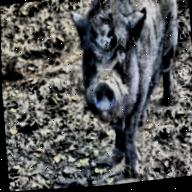boar: (69, 0, 189, 184)
